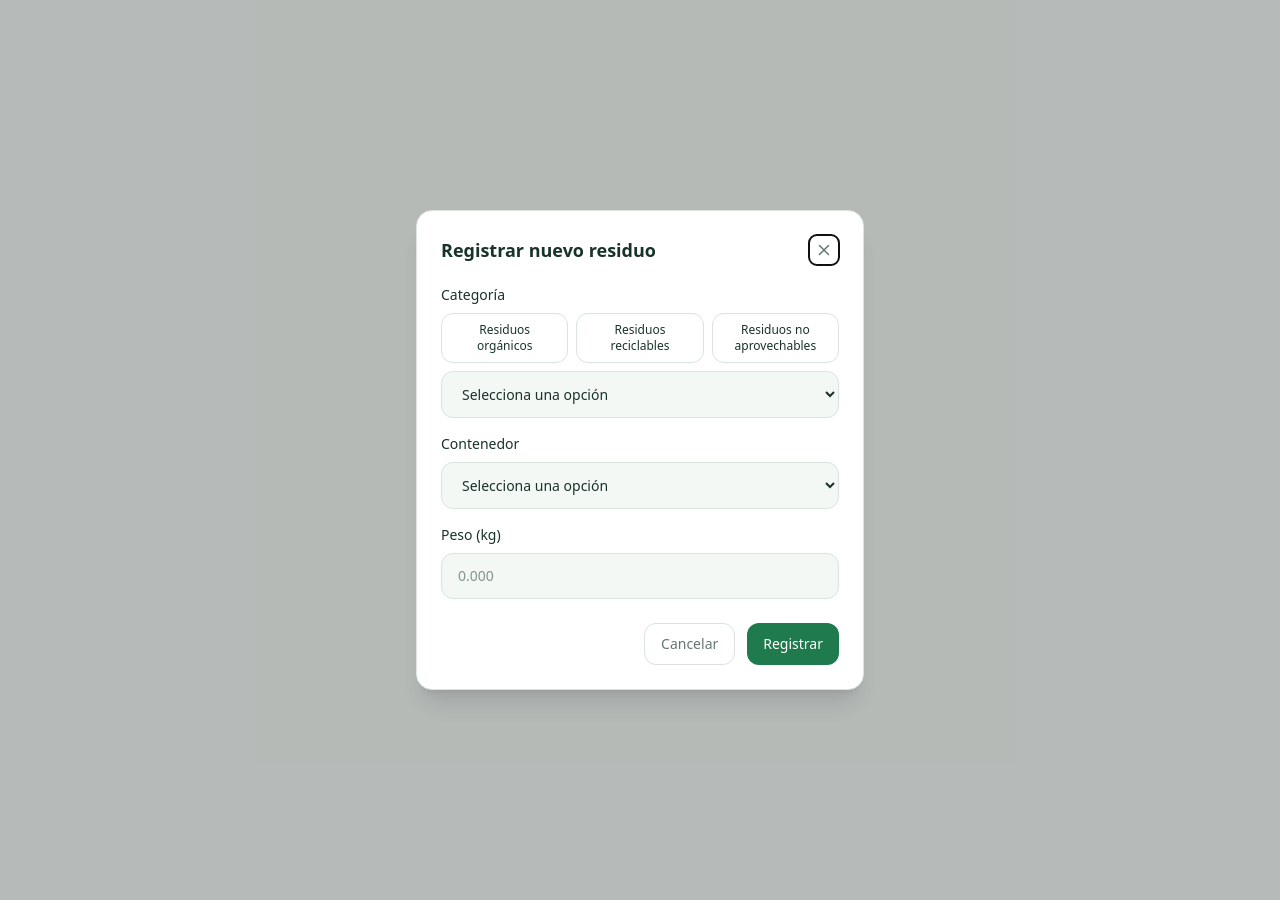
Test: WasteRegistrationModal Component - Ingreso de Materia Prima y Accesibilidad › 2. Bloquea el envío y muestra errores visuales cuando los campos obligatorios están vacíos
This screenshot has width=1280, height=900.
Click the button "Registrar": (793, 644) [747, 623, 839, 665]
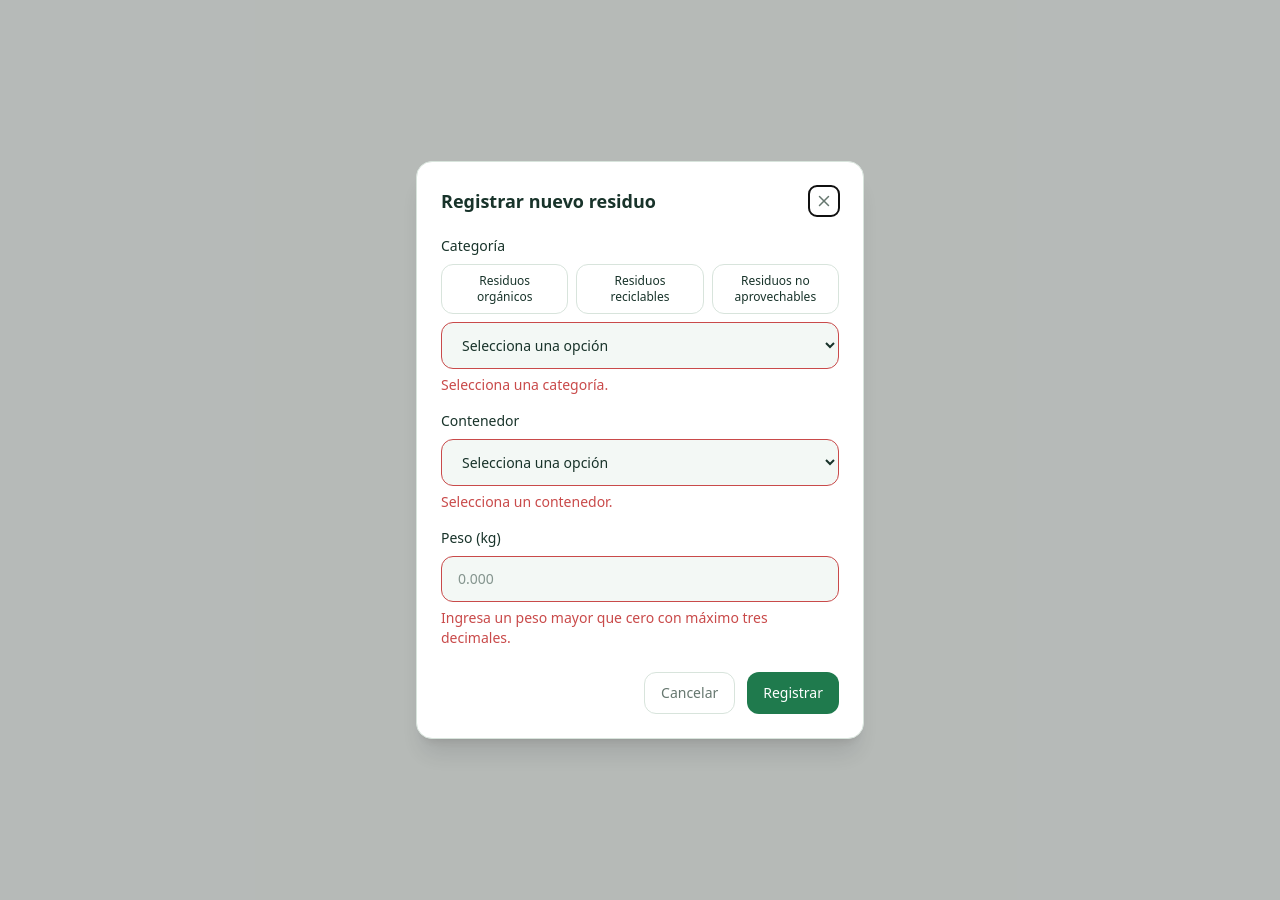
expect the message "Selecciona una categoría." is shown: met, box [441, 375, 608, 394]
